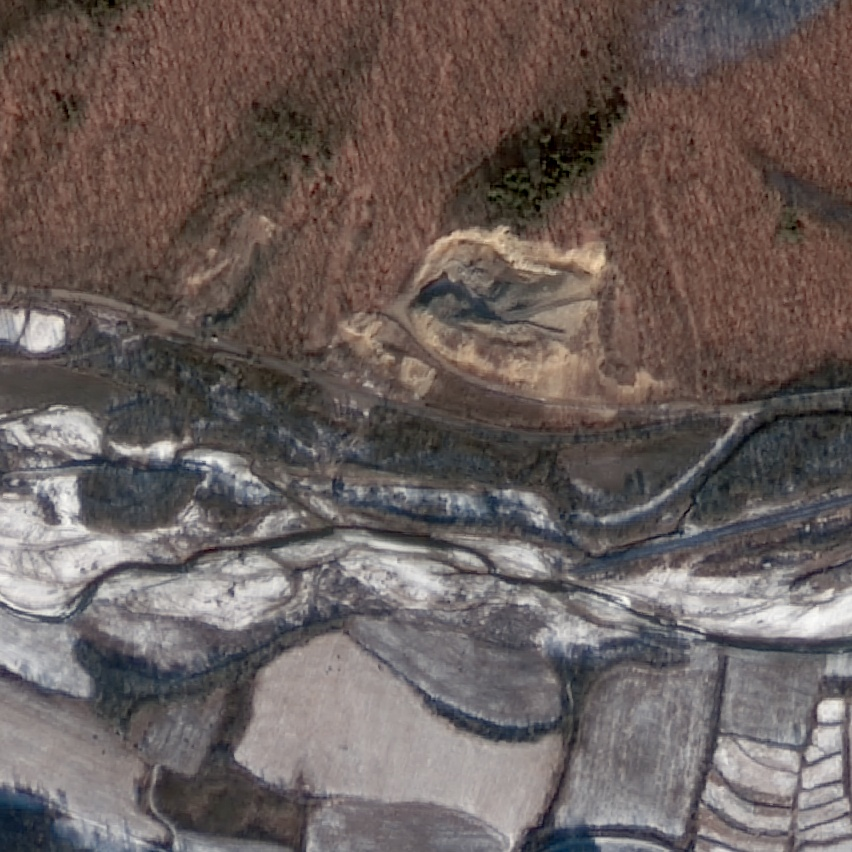slope: (401, 221, 665, 404), (320, 312, 438, 407)
